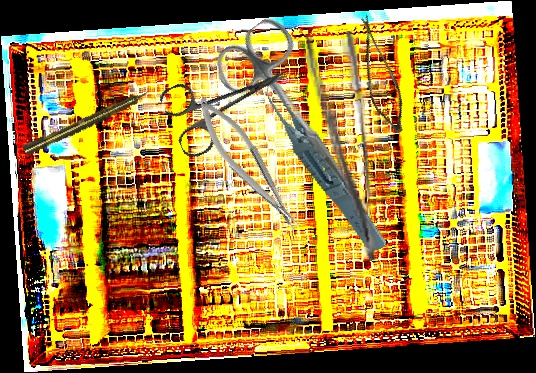Dressing Forceps: (304, 29, 381, 266)
Handpiece: (21, 86, 154, 157)
Iris Scissors: (206, 12, 386, 211), (157, 42, 301, 162)
Micro Scissor: (334, 13, 423, 137)
Needle Holder: (188, 88, 307, 242)
Tissue Forceps: (260, 56, 389, 268)
